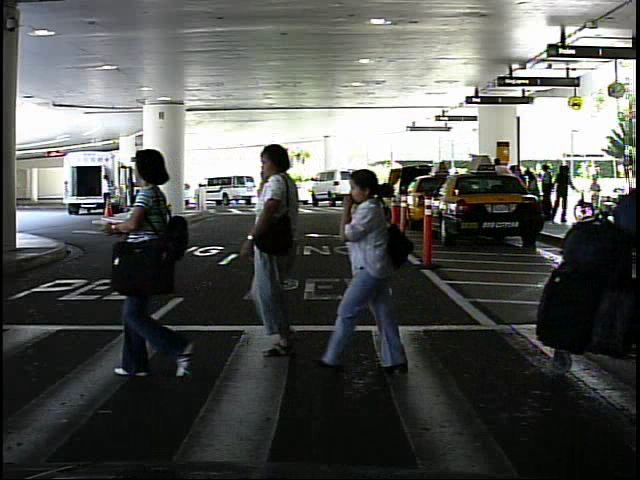person: (95, 136, 210, 384), (325, 160, 434, 381), (232, 139, 337, 361), (588, 172, 607, 211), (99, 172, 117, 195), (255, 177, 266, 204)
